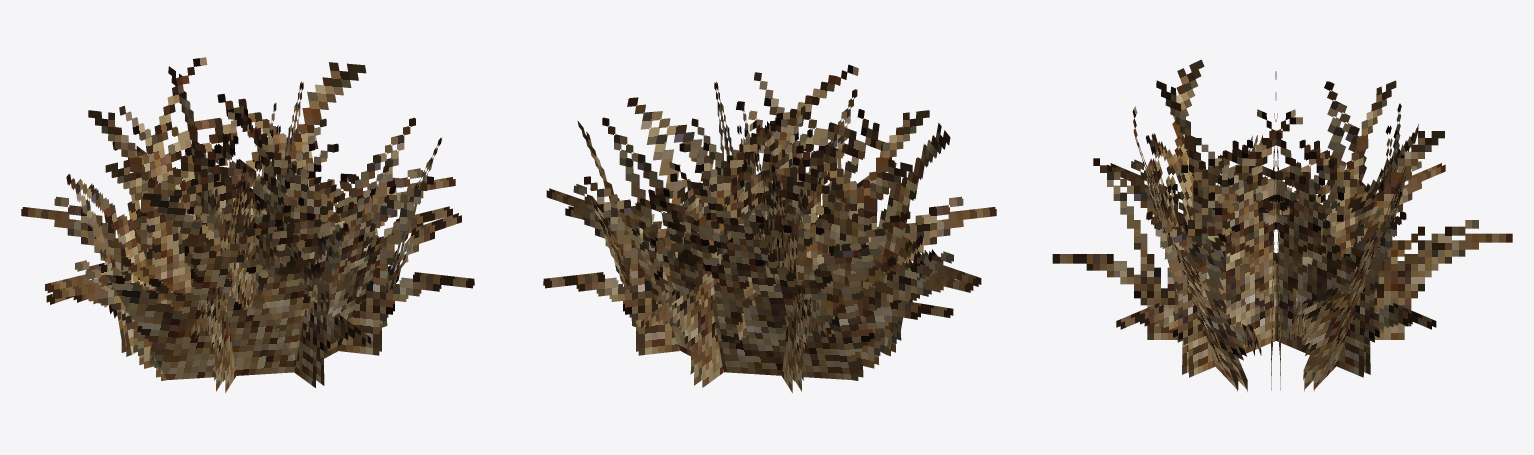
Rendered from grass_bush_fall.glb.
3 views of the same model, side by side, from view 1: azimuth 30°, elevation 25°; view 2: azimuth 150°, elevation 25°; view 3: azimuth 270°, elevation 25° (orthographic).
Visible parts, largest first — view 1: grass_bush; view 2: grass_bush; view 3: grass_bush.
Boxes of the visible parts, box(x1,y1,x2,y2) form: grass_bush: box(21, 57, 474, 392); grass_bush: box(543, 64, 996, 392); grass_bush: box(1052, 60, 1512, 391).
Size of the model in its own units: 0.8016 by 0.4 by 0.8.
Materials: 1 (1 with a texture image).
